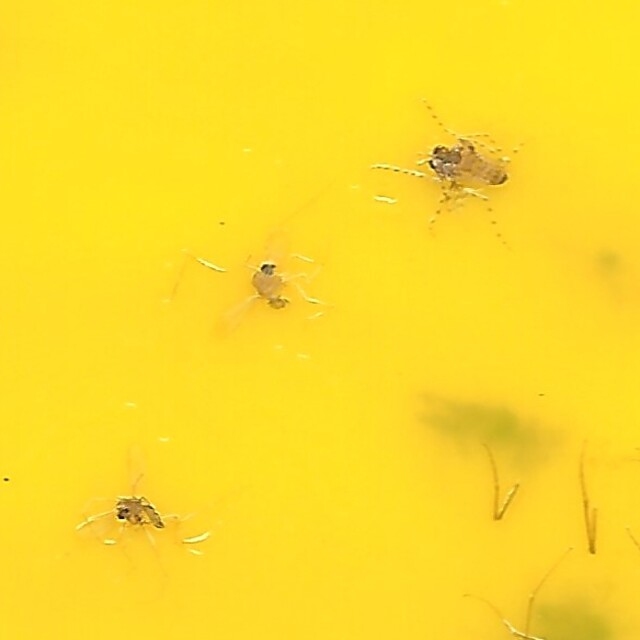Nematocera: (399, 102, 530, 240), (239, 261, 302, 319), (110, 488, 172, 538)
